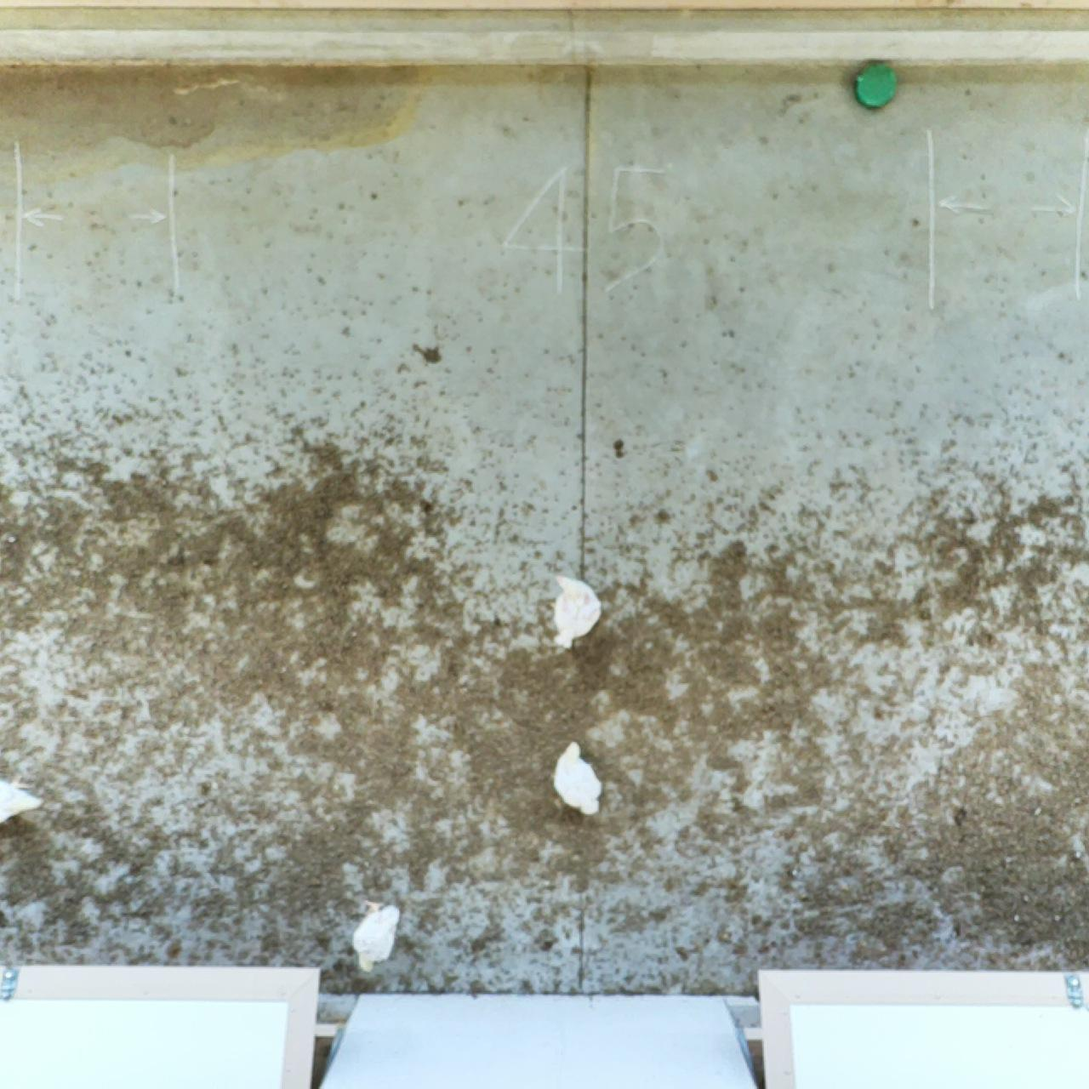chicken: (553, 575, 603, 651), (556, 740, 603, 817), (353, 902, 400, 973), (0, 782, 48, 824)
